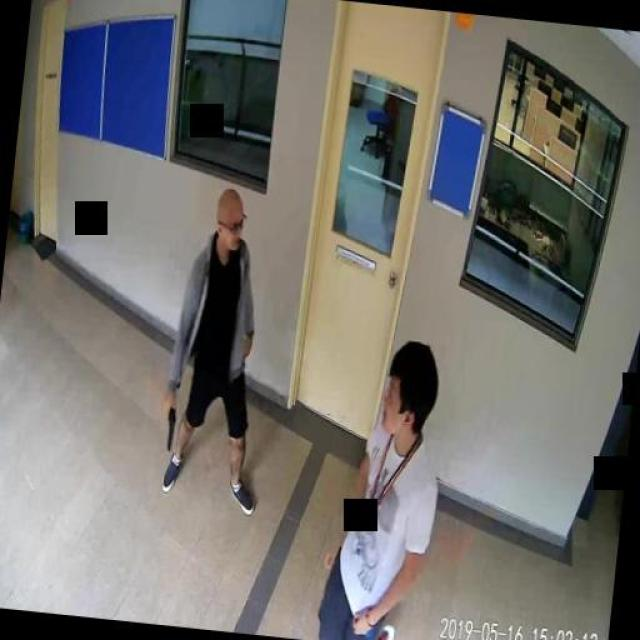gun: (160, 398, 176, 452)
